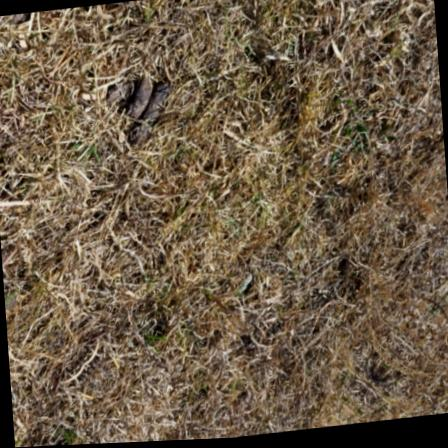dog-poop: (105, 71, 176, 142)
